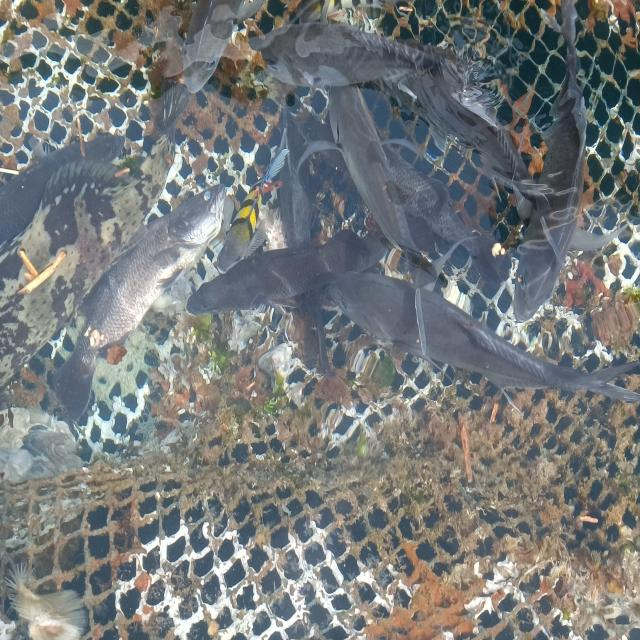ikan: (245, 18, 540, 197), (313, 266, 639, 416), (46, 182, 232, 428), (185, 227, 392, 375), (502, 0, 589, 324)
